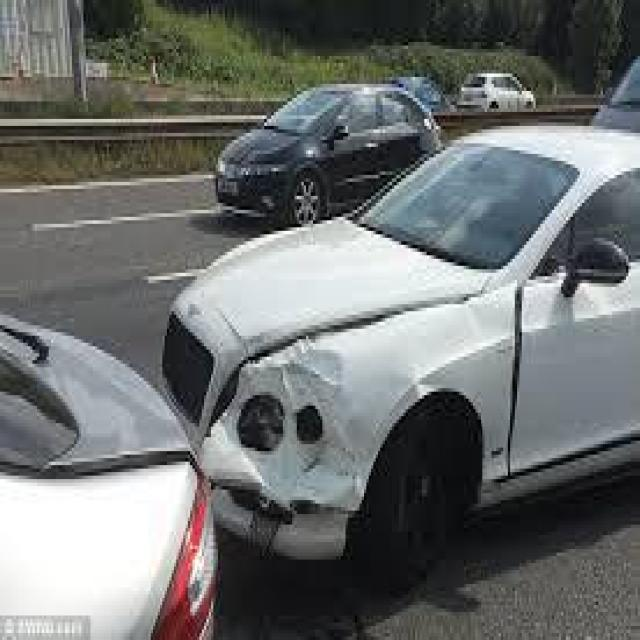damaged: (218, 346, 366, 556)
